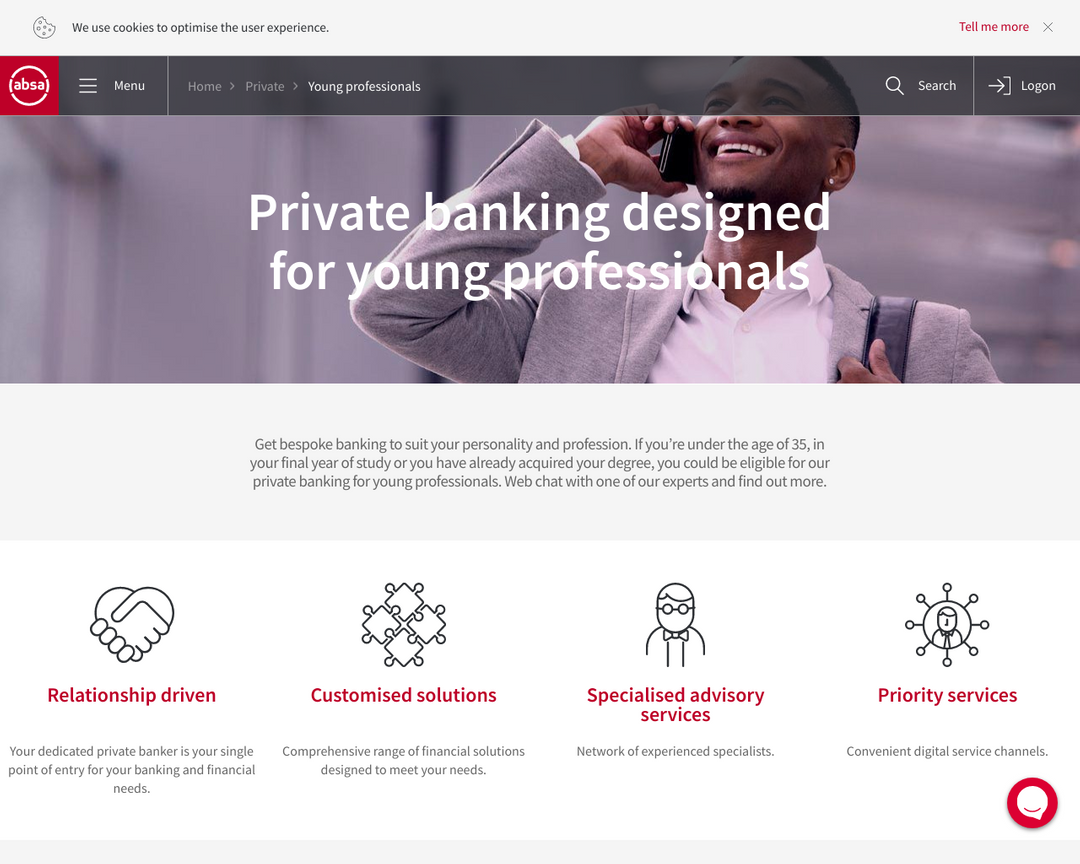ABSA: (6, 65, 54, 111)
